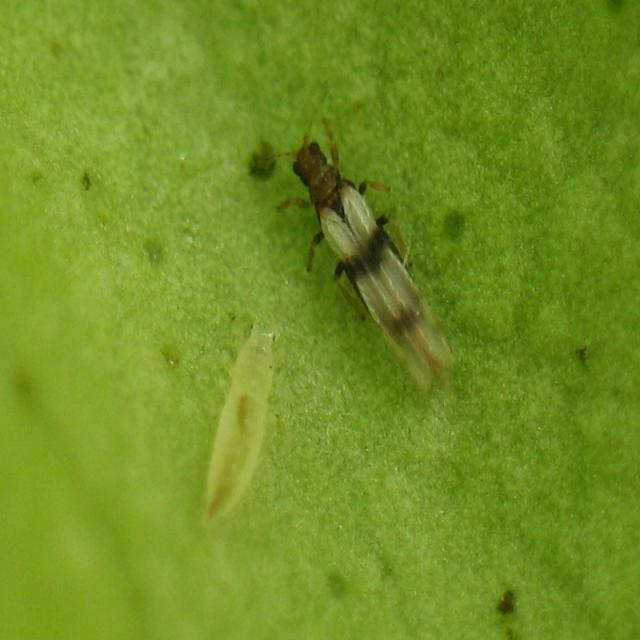Thrip-Adult-: (270, 94, 472, 396)
Thrip-Larva-: (184, 302, 290, 534)
